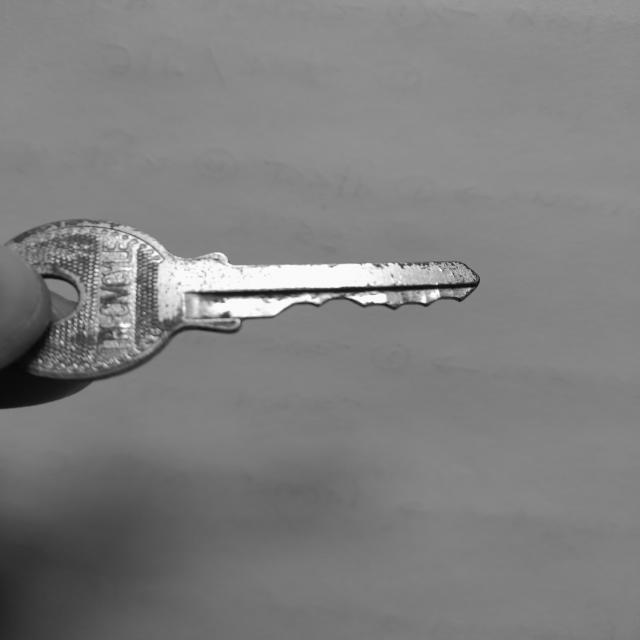key: (5, 220, 479, 380)
